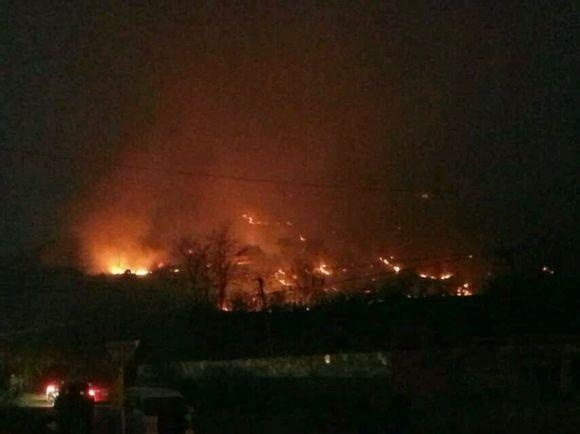fire: (102, 252, 156, 278)
